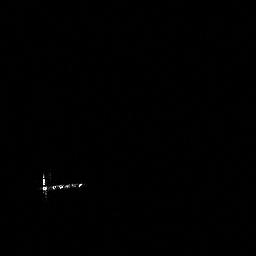ship: (36, 169, 86, 199)
